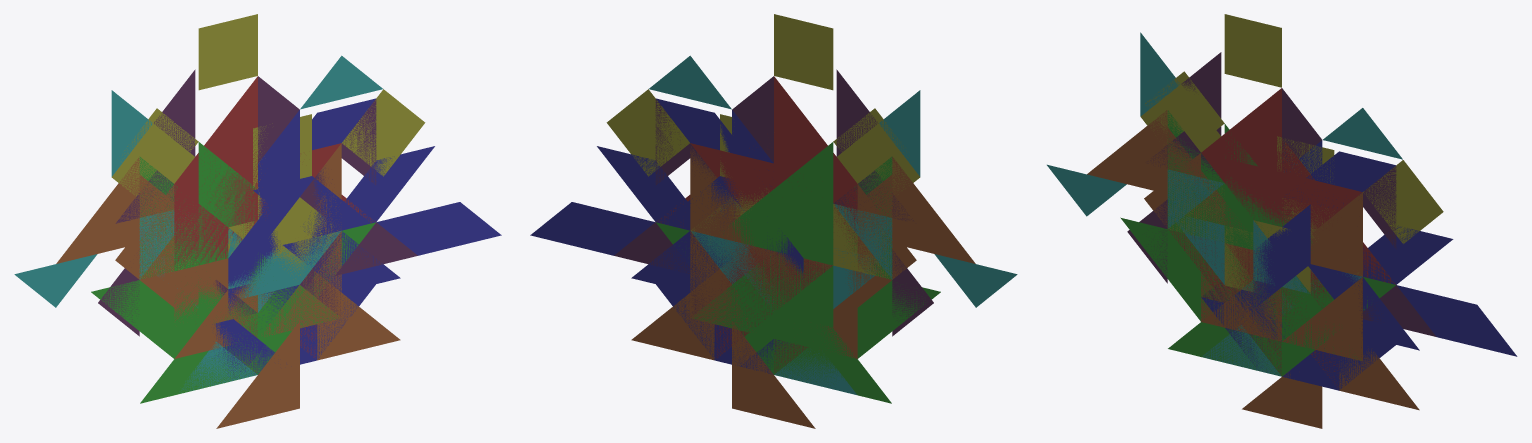
File: tangram.obj
3 renders of one model, left to right at view 1: azimuth 30°, elevation 25°; view 2: azimuth 150°, elevation 25°; view 3: azimuth 330°, elevation 25°, orthographic. The views are drawn at different scales.
Visible parts, largest first — view 1: EX6, EX4, EX7, EX2, EX8, EX5, EX0, EX1, EX3, P, TG1, TM; view 2: EX7, EX6, EX5, EX4, EX8, EX2, EX3, EX1, EX0, TG1, TM, P; view 3: EX6, EX5, EX8, EX4, EX3, EX1, EX7, EX0, EX2, P, TP2, Q (+1 smaller).
Boxes of the visible parts, x1,y1,x2,y2 form: EX6: (14, 14, 299, 307); EX4: (111, 69, 375, 403); EX7: (121, 108, 400, 377); EX2: (174, 114, 370, 342); EX8: (115, 146, 434, 428); EX5: (98, 55, 425, 336); EX0: (174, 167, 341, 358); EX1: (91, 98, 376, 358); EX3: (139, 174, 501, 373); P: (228, 210, 280, 314); TG1: (198, 259, 265, 326); TM: (216, 274, 272, 312); EX7: (631, 108, 911, 371); EX6: (732, 14, 1017, 307); EX5: (606, 55, 933, 336); EX4: (656, 69, 920, 403); EX8: (597, 146, 913, 428); EX2: (661, 114, 884, 358); EX3: (530, 147, 892, 373); EX1: (655, 98, 940, 358); EX0: (690, 143, 856, 332); TG1: (733, 243, 833, 327); TM: (730, 242, 832, 307); P: (761, 232, 803, 278); EX6: (1047, 14, 1322, 248); EX5: (1127, 108, 1443, 350); EX8: (1147, 131, 1453, 428); EX4: (1140, 32, 1395, 390); EX3: (1167, 127, 1517, 376); EX1: (1120, 151, 1396, 341); EX7: (1145, 71, 1419, 410); EX0: (1208, 158, 1362, 361); EX2: (1201, 136, 1387, 360); P: (1253, 204, 1310, 309); TP2: (1253, 220, 1310, 293); Q: (1253, 220, 1310, 293).
Size of the model in its own units: 16.49 by 13.07 by 0.
